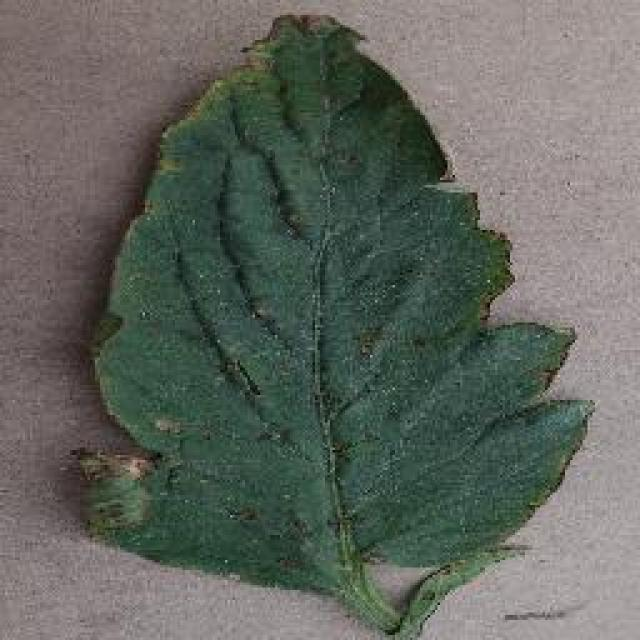Tomato___Bacterial_spot: (60, 7, 599, 638)
